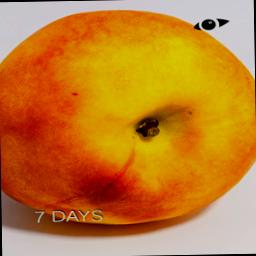Peach Ripe: (0, 6, 256, 231)
